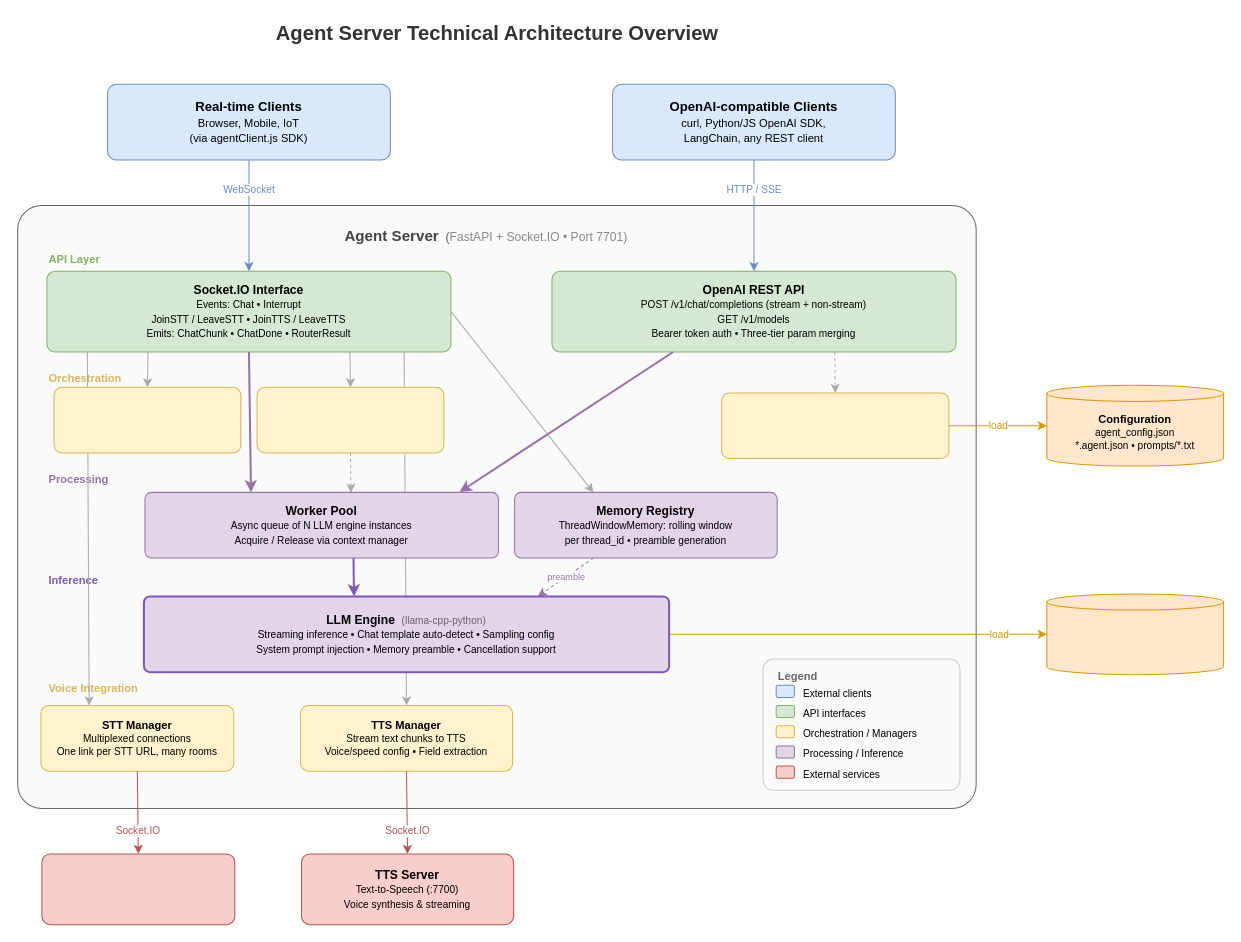
Some shapes in this 1241 by 942 pixel diagram are drawn without their labels. The shapes that lost their labels are listed below. From the top down, each one's centre as x and y in pixels, then its label:
point 147,419: Session State Per-client task tracking Cancellation • Locks
point 350,419: Router Dispatcher Fire-and-forget intent classification → JSON
point 835,425: Agent Presets general • router • topic • ml robot • docbro • floorplan • succint
point 1135,634: GGUF Models Qwen 2.5 • Phi-4 • Gemma EuroLLM • SmolLM • Jan Nano
point 138,889: STT Server Speech-to-Text (:2700) Whisper-based transcription
